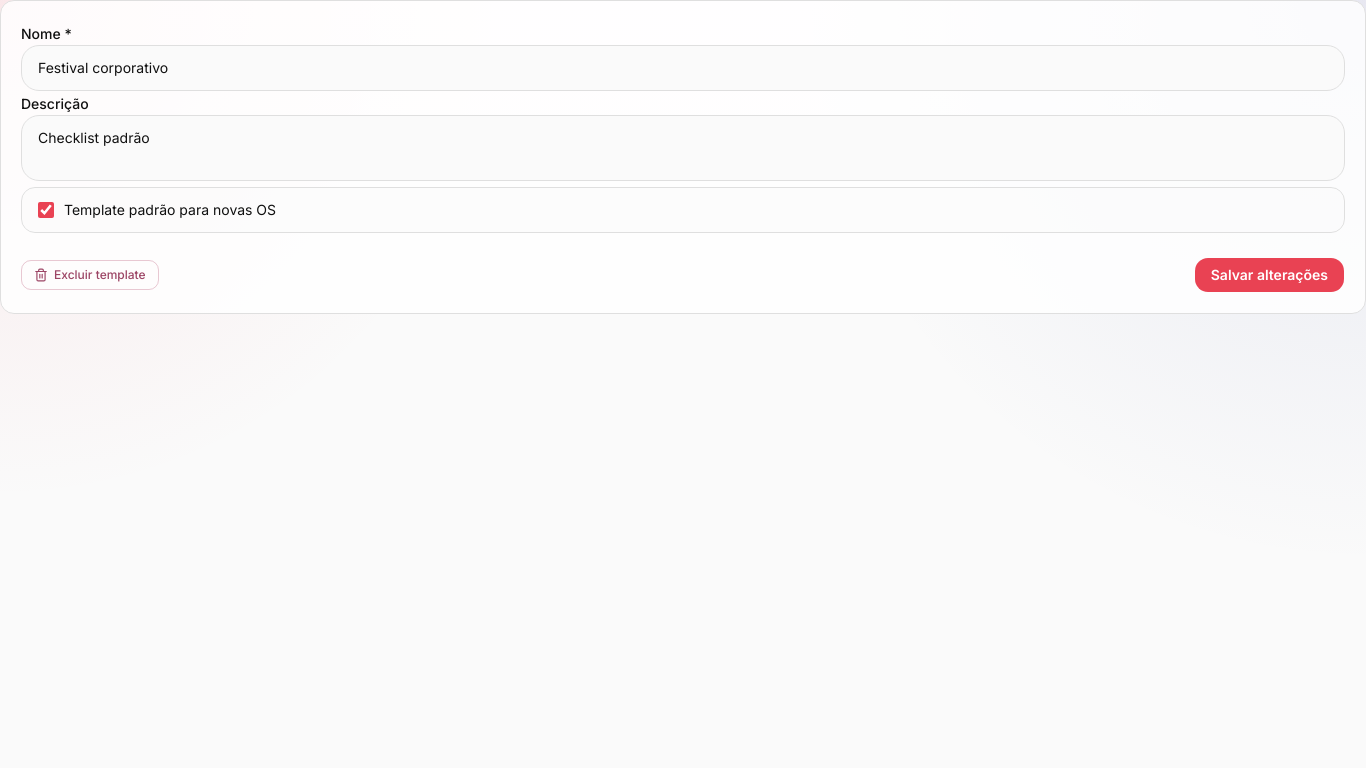
Test: TemplateHeaderForm › abre o diálogo de confirmação de exclusão
This screenshot has width=1366, height=768.
Click the button "Excluir template". click: (90, 275)
box: [21,260,159,290]
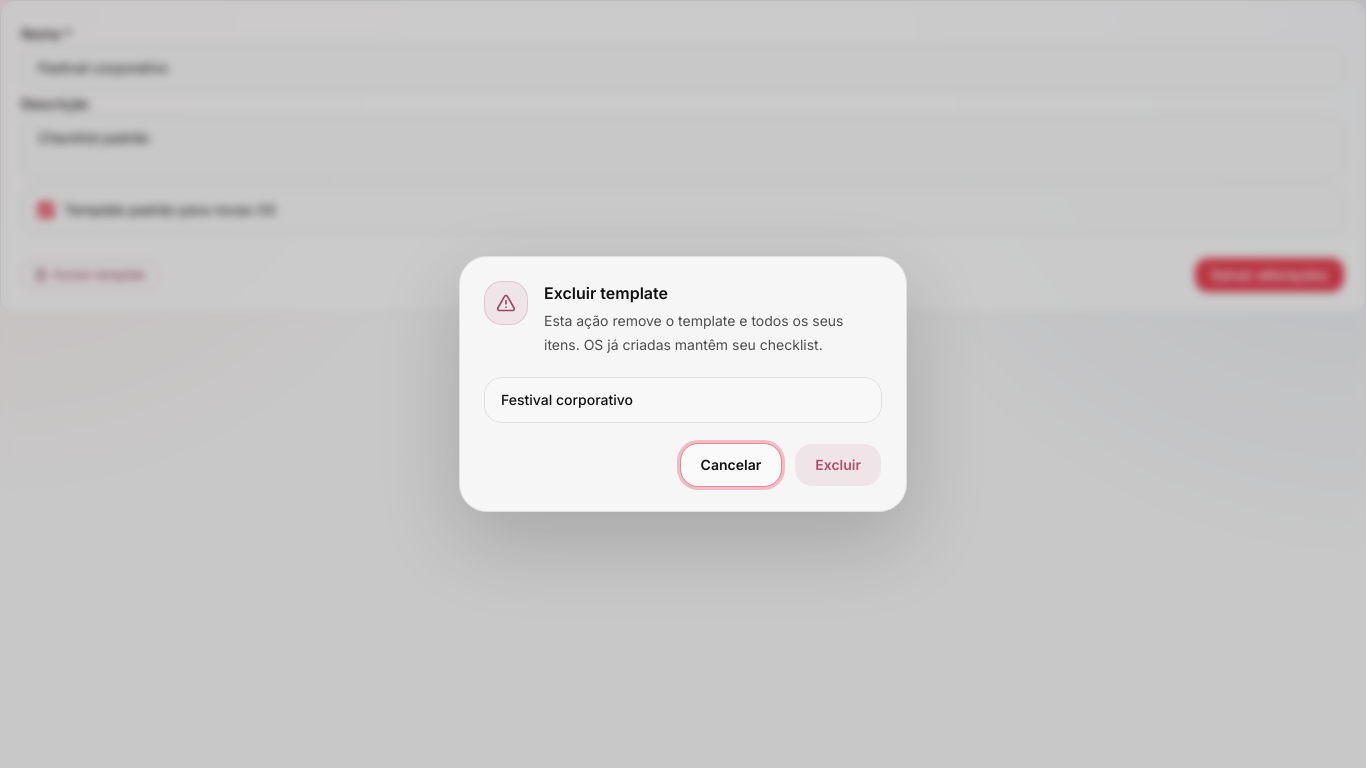
Now the text "Esta ação remove o template e todos os seus itens" is shown, box [544,312,844,353]
Now the button "Excluir" is shown, box [794,443,882,487]
